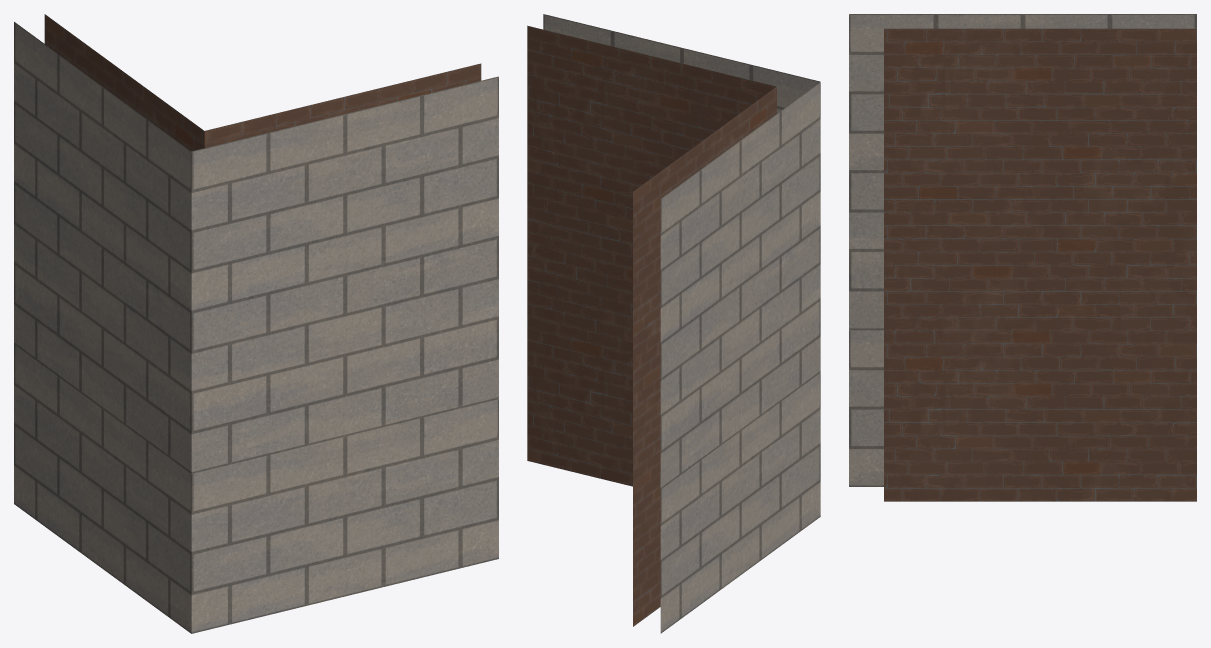
Rendered from WhiteBrick_Corner_Plain.gltf.
3 renders of one model, left to right at view 1: azimuth 30°, elevation 25°; view 2: azimuth 150°, elevation 25°; view 3: azimuth 270°, elevation 25°, orthographic. The views are drawn at different scales.
Visible parts, largest first — view 1: WhiteBrick_Corner_Plain; view 2: WhiteBrick_Corner_Plain; view 3: WhiteBrick_Corner_Plain.
Boxes of the visible parts, x1=… form: WhiteBrick_Corner_Plain: x1=14, y1=14, x2=498, y2=633; WhiteBrick_Corner_Plain: x1=527, y1=14, x2=820, y2=633; WhiteBrick_Corner_Plain: x1=849, y1=14, x2=1196, y2=501.
Bounding box in the file's own units: 2 × 3 × 2.
2 materials, 2 textured.
